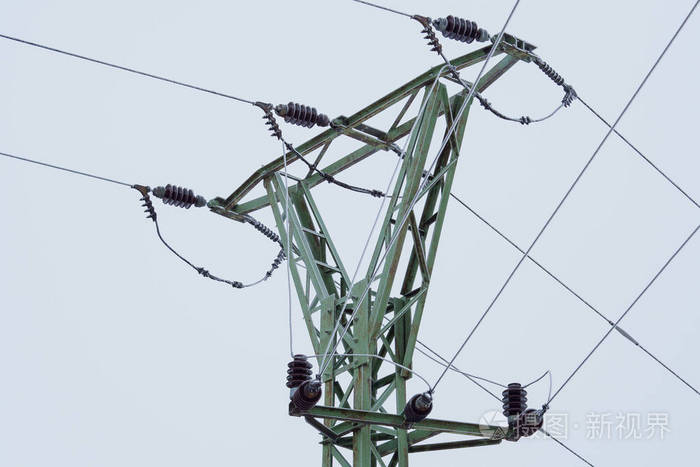insulator: (442, 14, 479, 44), (280, 100, 319, 128), (157, 184, 193, 209), (500, 387, 531, 416), (283, 359, 314, 387)
